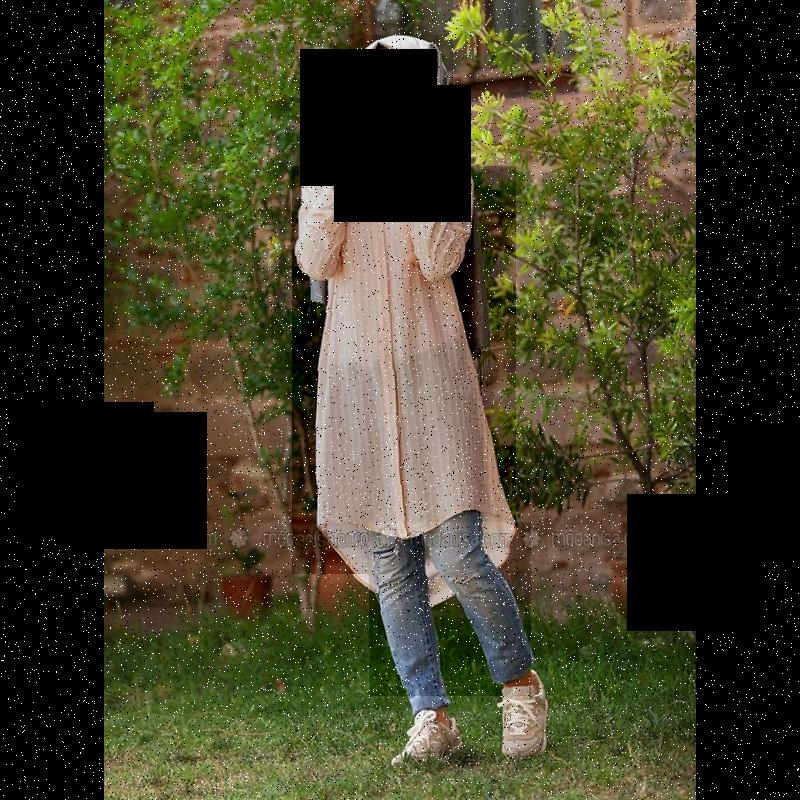Hijab: (331, 36, 453, 166)
Jeans: (369, 522, 531, 696)
Kurta: (292, 166, 516, 574)
